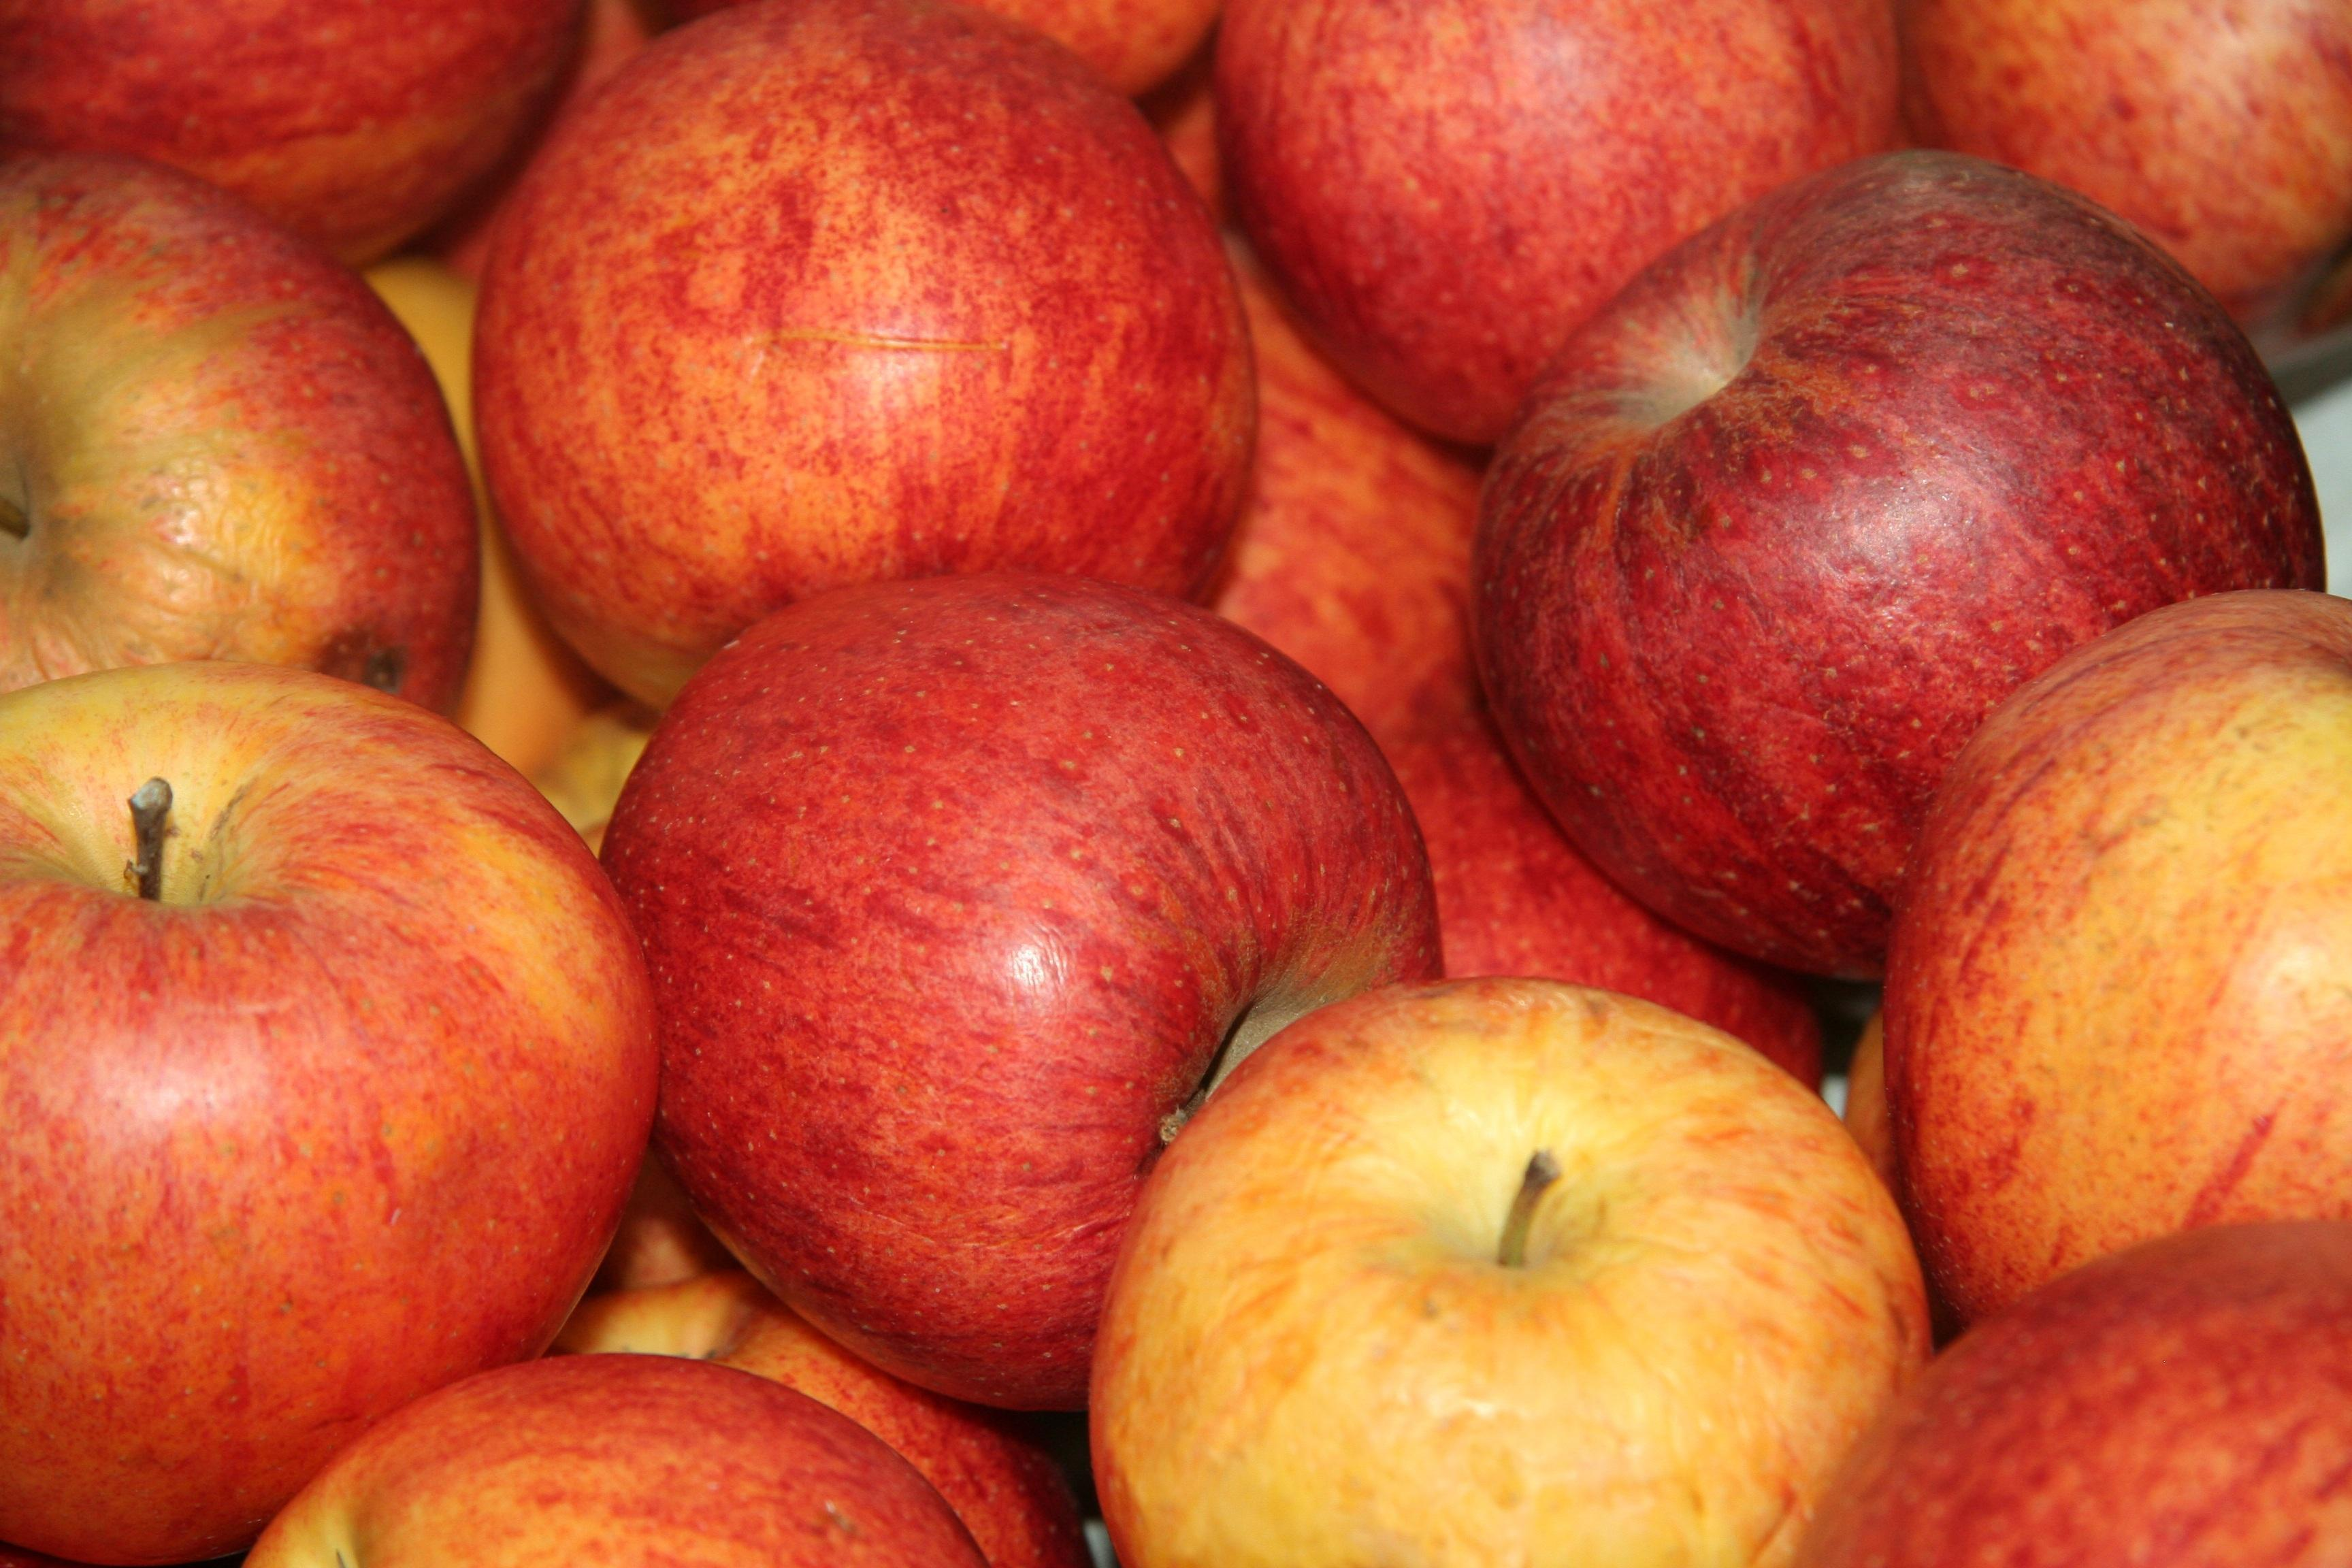apple: (592, 569, 1461, 1428), (1449, 135, 2315, 987), (4, 653, 693, 1559), (441, 5, 1250, 714), (1094, 970, 1934, 1554), (1208, 5, 1927, 450), (4, 119, 476, 710)
